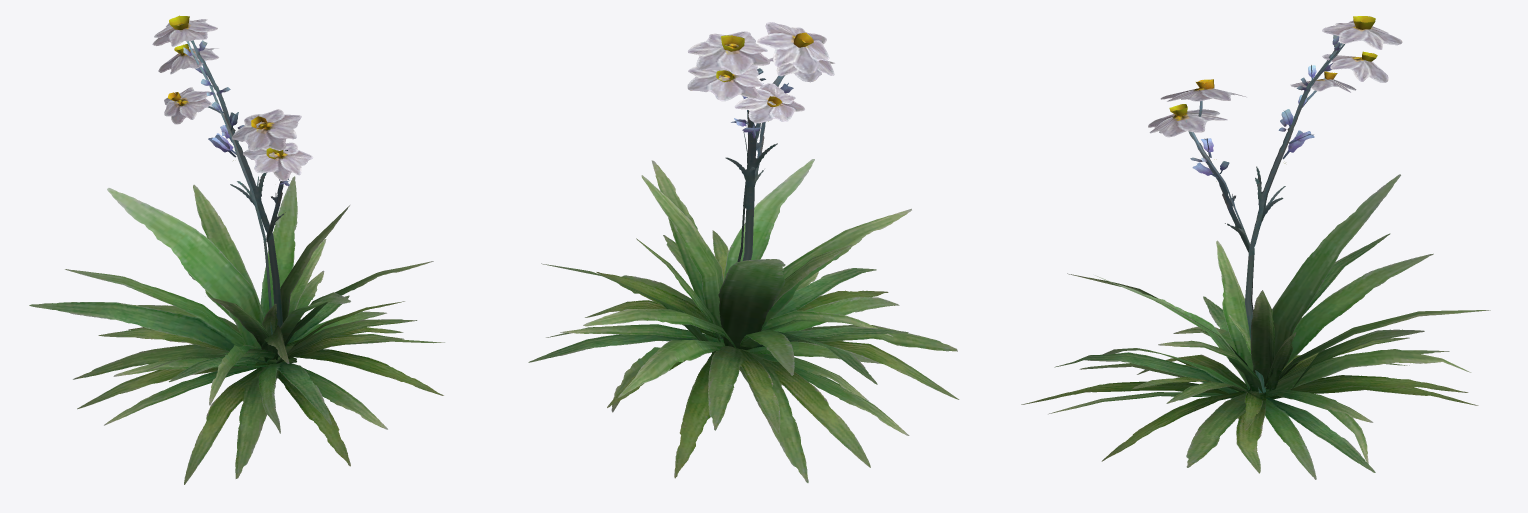
Rendered from 1001_Plant_huacao_08.FBX.
3 views of the same model, side by side, from view 1: azimuth 30°, elevation 25°; view 2: azimuth 150°, elevation 25°; view 3: azimuth 270°, elevation 25° (orthographic). The views are drawn at different scales.
Visible parts, largest first — view 1: 1001_Plant_huacao_08; view 2: 1001_Plant_huacao_08; view 3: 1001_Plant_huacao_08.
Part boxes in pixels (x1,y1,x2,y2): 1001_Plant_huacao_08: (29, 15, 444, 484); 1001_Plant_huacao_08: (528, 22, 959, 482); 1001_Plant_huacao_08: (1021, 16, 1490, 479).
Bounding box in the file's own units: 169 × 169 × 186.
